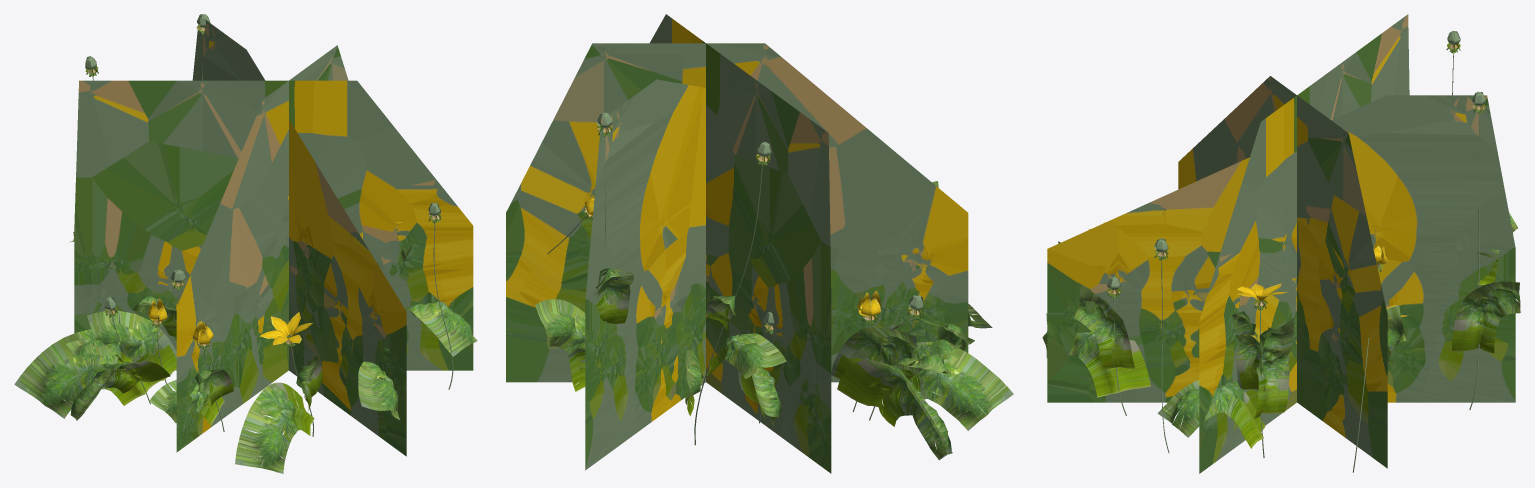
The model's file is PW_California_Poppy_2.fbx.
The picture shows the model from 3 angles, left to right: view 1: azimuth 30°, elevation 25°; view 2: azimuth 150°, elevation 25°; view 3: azimuth 270°, elevation 25°; orthographic projection. The views are drawn at different scales.
Parts seen in each view (by area): view 1: Billboard, LOD0; view 2: Billboard, LOD0; view 3: Billboard, LOD0.
Boxes of the visible parts, x1,y1,x2,y2 form: Billboard: (74, 20, 473, 456); LOD0: (14, 14, 477, 473); Billboard: (506, 14, 968, 473); LOD0: (535, 112, 1013, 460); Billboard: (1047, 14, 1515, 473); LOD0: (1042, 31, 1520, 472).
Size of what is drawn, in the model's own units: 40.26 by 29.82 by 40.81.
